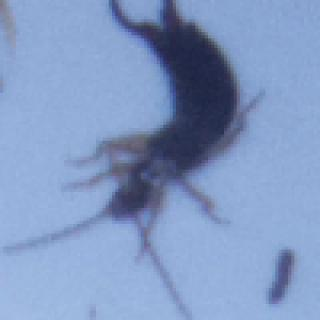earwig: (3, 0, 266, 320)
